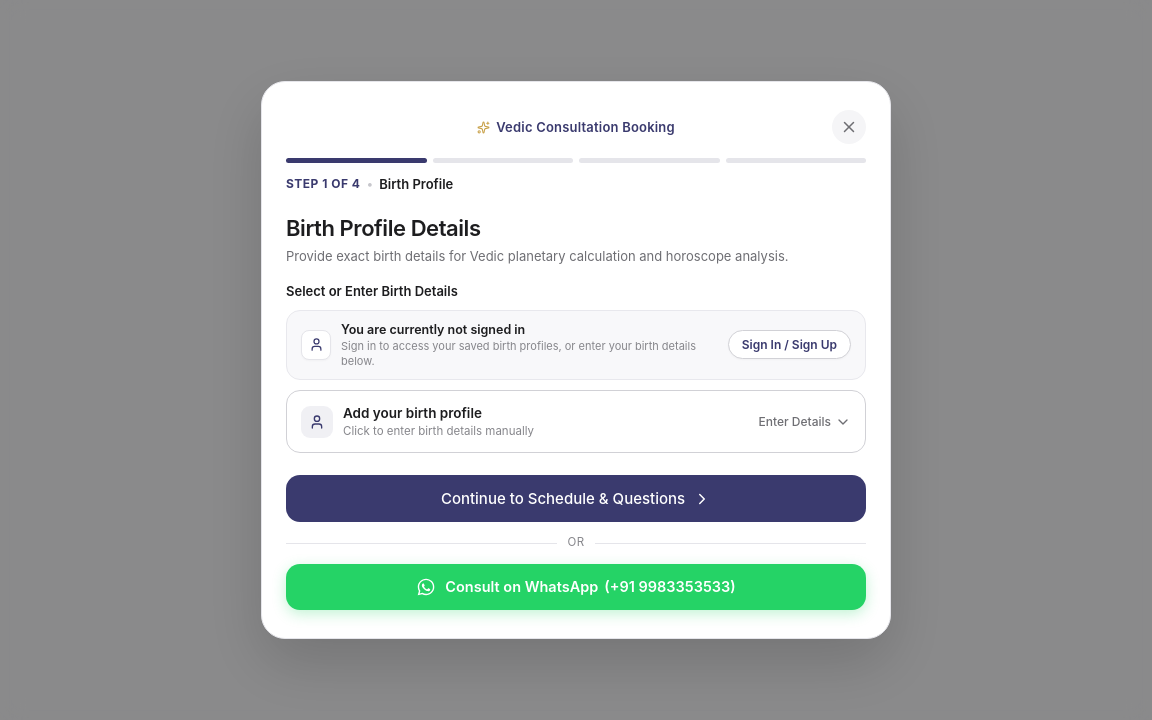
Test: BookingModal Component Tests › supports unauthenticated guest booking and renders "Add your birth profile"
Expected: the text "You are currently not signed in" is shown, [341,322,525,337]
Note: User expands to reveal inputs
Click the text "Add your birth profile" at (412, 413), box [343,405,482,421]
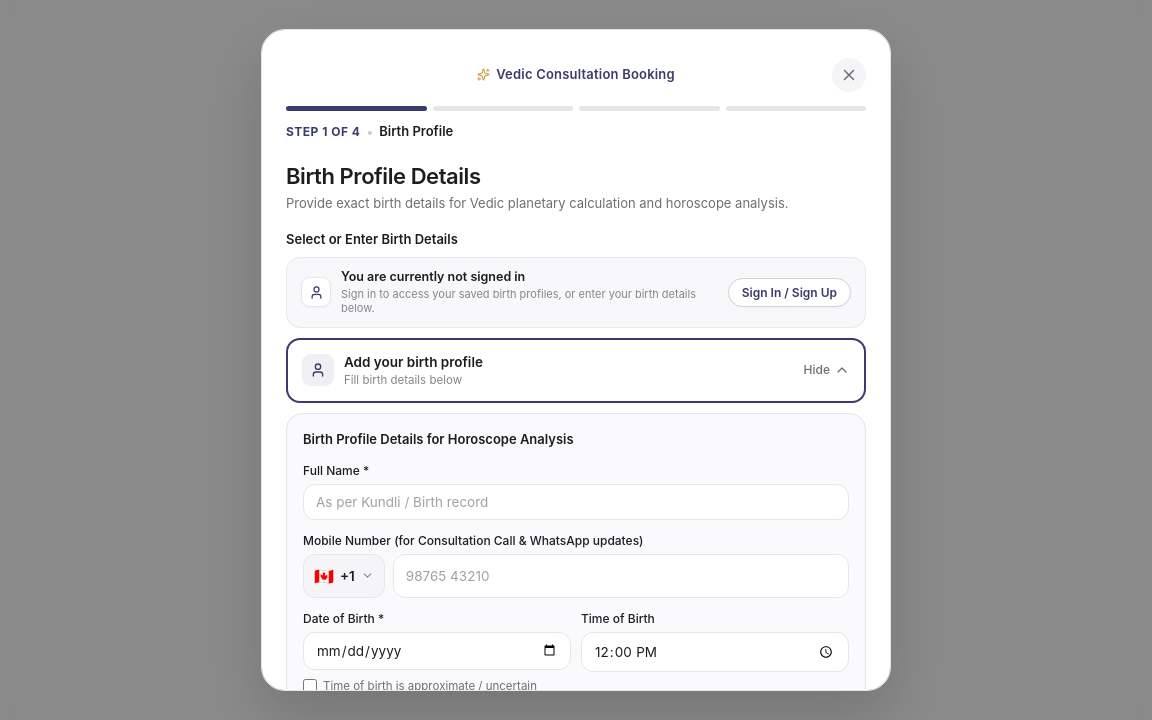
Now the field with placeholder "As per Kundli / Birth record" is shown, box [303,484,849,520]
